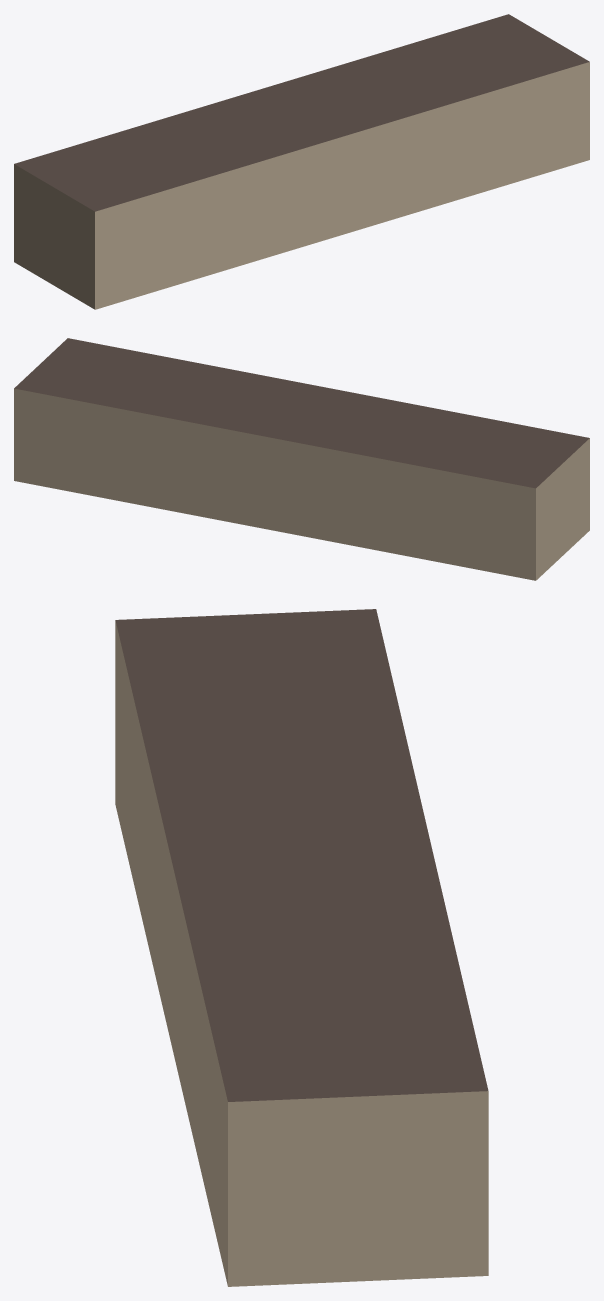
3 views of the same model, one above another, from view 1: azimuth 30°, elevation 25°; view 2: azimuth 150°, elevation 25°; view 3: azimuth 270°, elevation 25° (orthographic). The views are drawn at different scales.
Visible parts, largest first — view 1: HP-w859078882; view 2: HP-w859078882; view 3: HP-w859078882.
Boxes of the visible parts, <box> form: HP-w859078882: <box>14,14,589,309</box>; HP-w859078882: <box>14,338,589,580</box>; HP-w859078882: <box>115,609,488,1286</box>.
Bounding box in the file's own units: 51.49 × 9 × 16.46.
